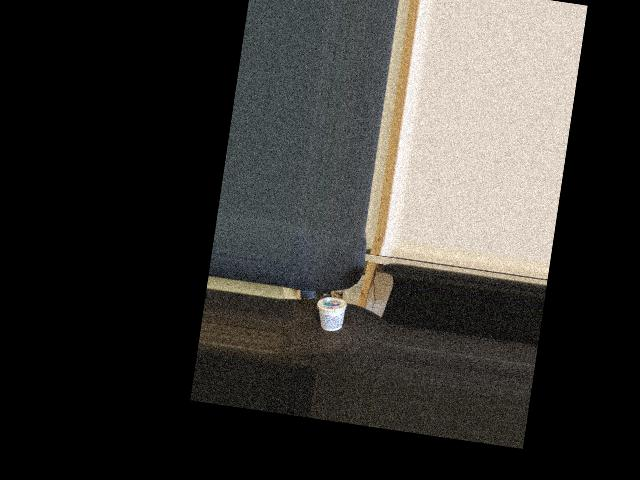cotage: (314, 292, 345, 333)
